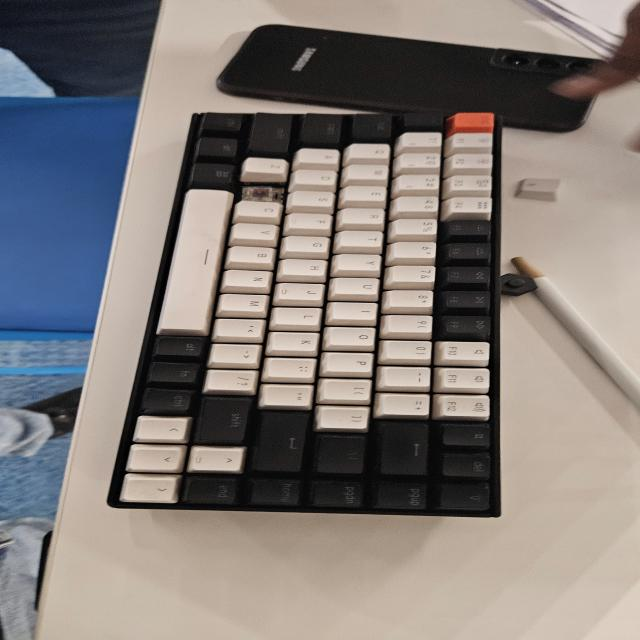C: (242, 186, 272, 201)
